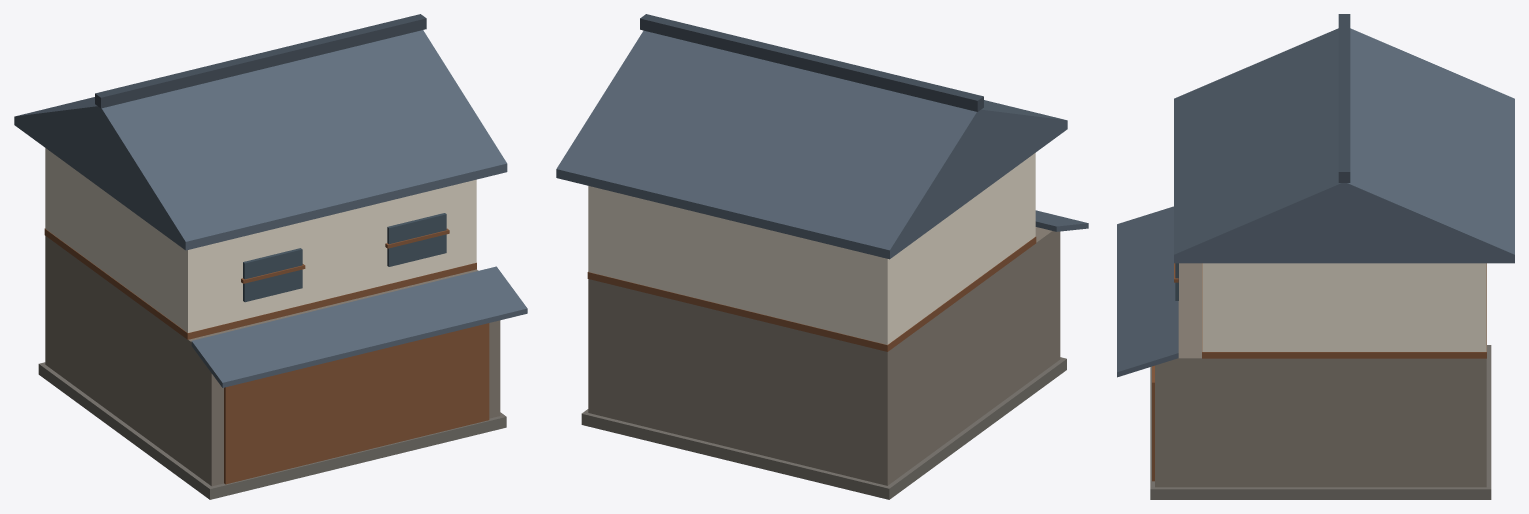
Rendered from house_generic.fbx.
3 renders of one model, left to right at view 1: azimuth 30°, elevation 25°; view 2: azimuth 150°, elevation 25°; view 3: azimuth 270°, elevation 25°, orthographic. The views are drawn at different scales.
Parts seen in each view (by area): view 1: house_generic; view 2: house_generic; view 3: house_generic.
Part boxes in pixels (x1,y1,x2,y2): house_generic: [14, 14, 527, 499]; house_generic: [556, 14, 1088, 499]; house_generic: [1117, 14, 1514, 499].
Bounding box in the file's own units: 7.9 × 7.8 × 8.4.
Materials: 1 (1 with a texture image).
